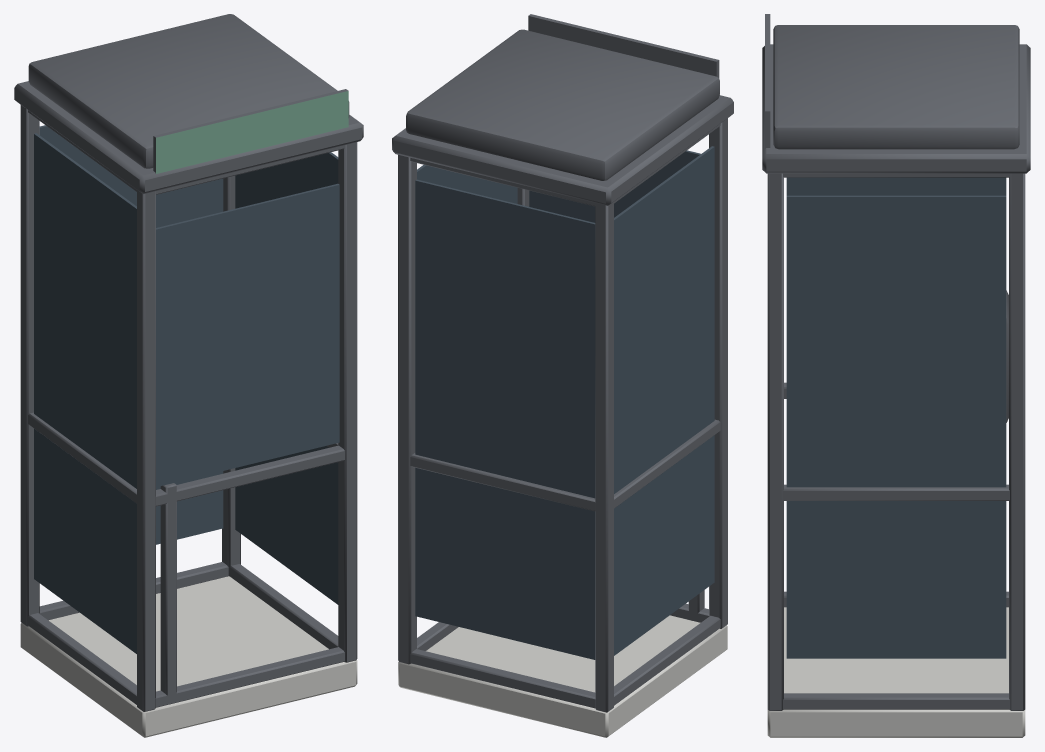
Rendered from PhoneBooth.fbx.
The picture shows the model from 3 angles, left to right: view 1: azimuth 30°, elevation 25°; view 2: azimuth 150°, elevation 25°; view 3: azimuth 270°, elevation 25°; orthographic projection. The views are drawn at different scales.
Parts seen in each view (by area): view 1: PhoneBooth; view 2: PhoneBooth; view 3: PhoneBooth.
Part boxes in pixels (x1=…): PhoneBooth: x1=14, y1=14, x2=363, y2=737; PhoneBooth: x1=392, y1=14, x2=733, y2=737; PhoneBooth: x1=762, y1=14, x2=1030, y2=737.
Size of the model in its own units: 1 by 2.56 by 1.
